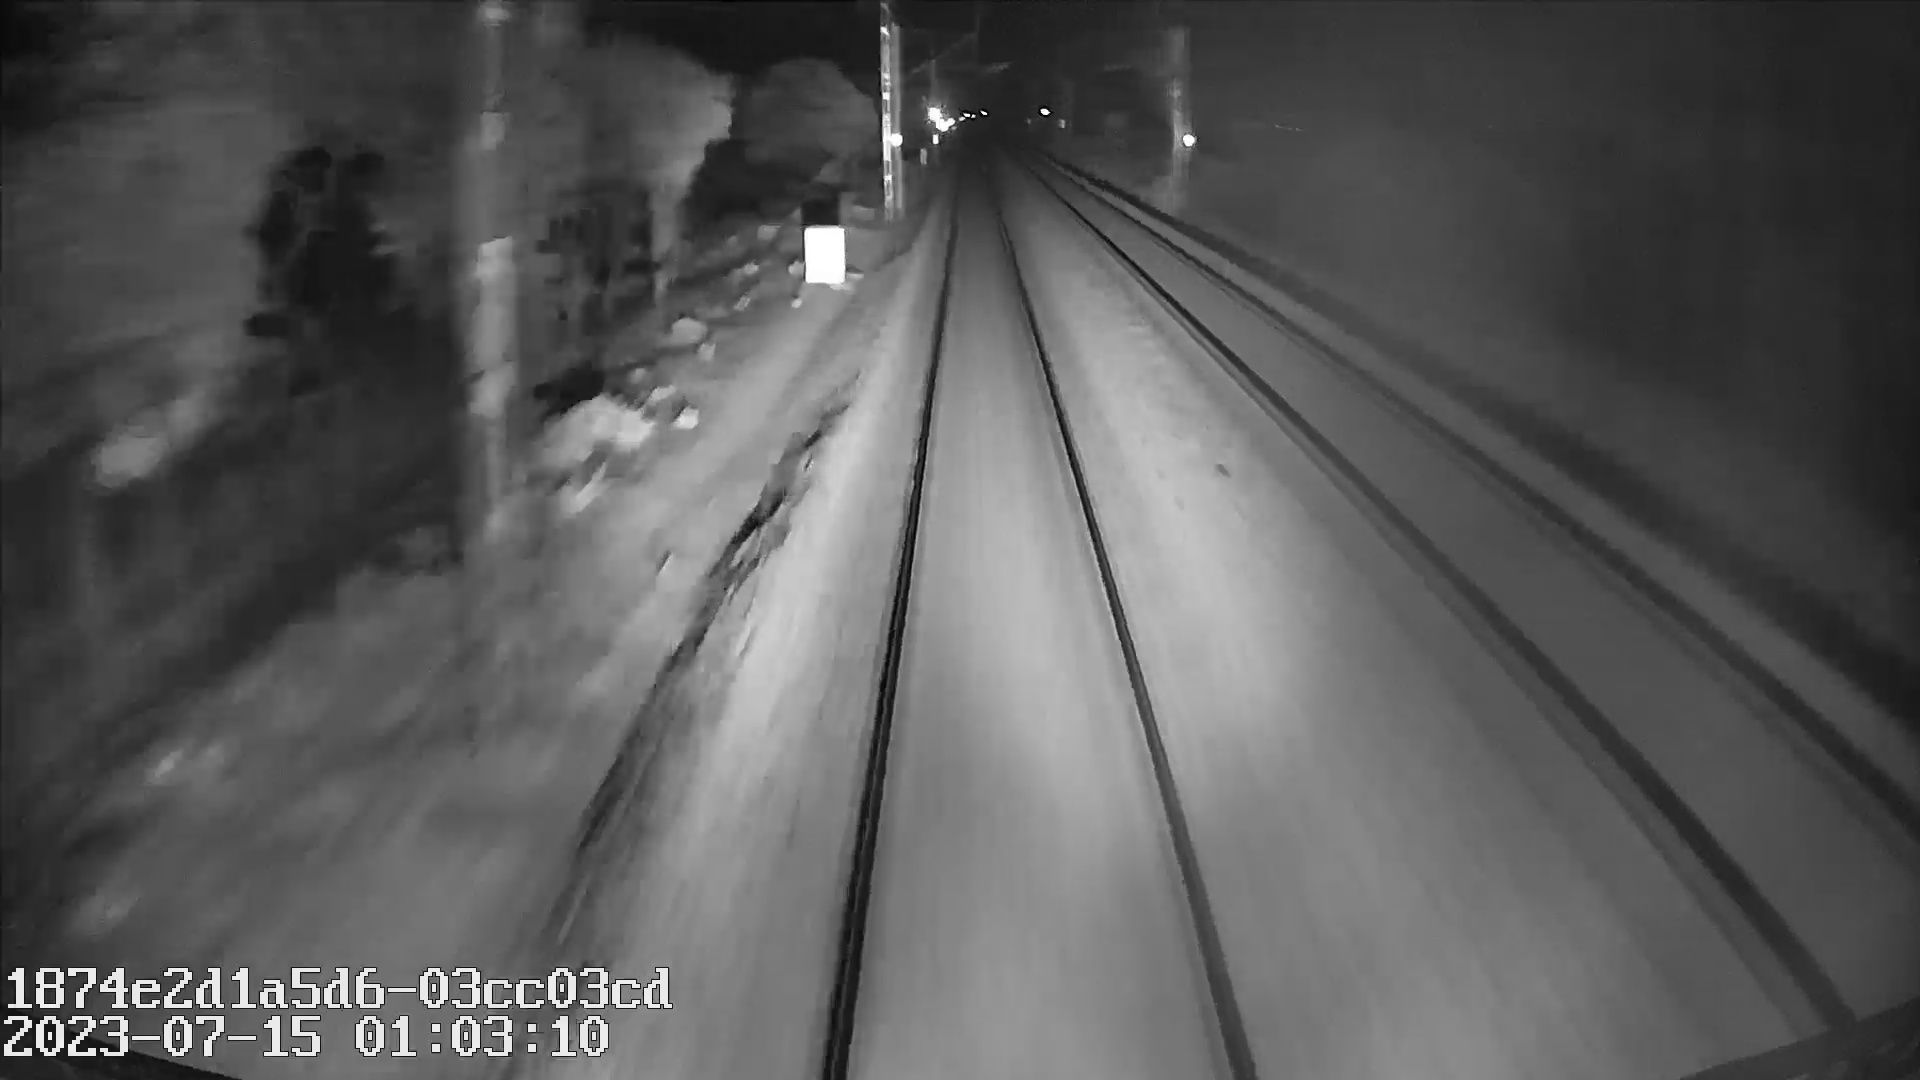track1: (840, 204, 1236, 1044)
track2: (1064, 194, 1912, 980)
